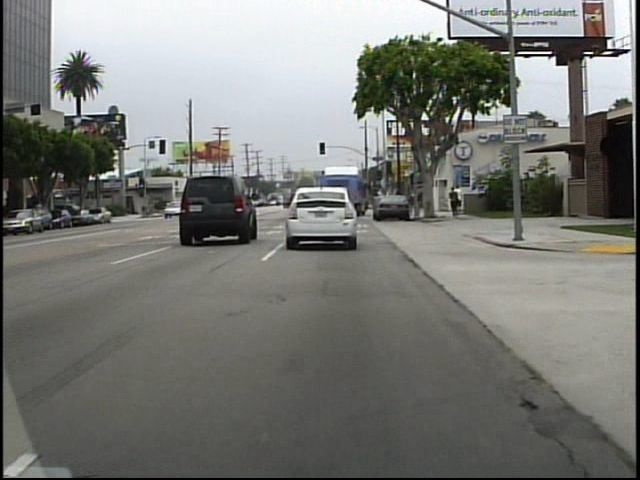person: (447, 186, 461, 221), (455, 184, 465, 218)
